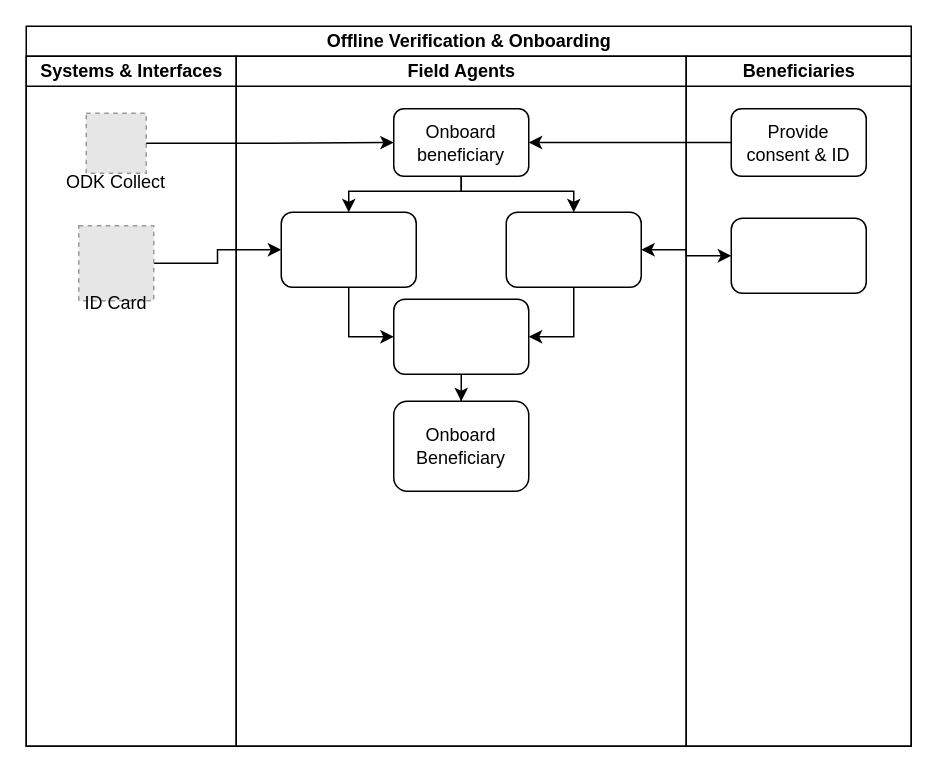
The diagram is 938 pixels wide and 773 high, and some of its shapes have lost their labels. Grey dashed boxes stand in for pictures. The centre of each missing label's shape, as x and y in pixels:
"Accept data share request" belongs at (x=798, y=255).
"Mobile ID Sharing" belongs at (x=573, y=249).
"Scan QR Code" belongs at (x=348, y=249).
"Verify digital signature" belongs at (x=460, y=336).
